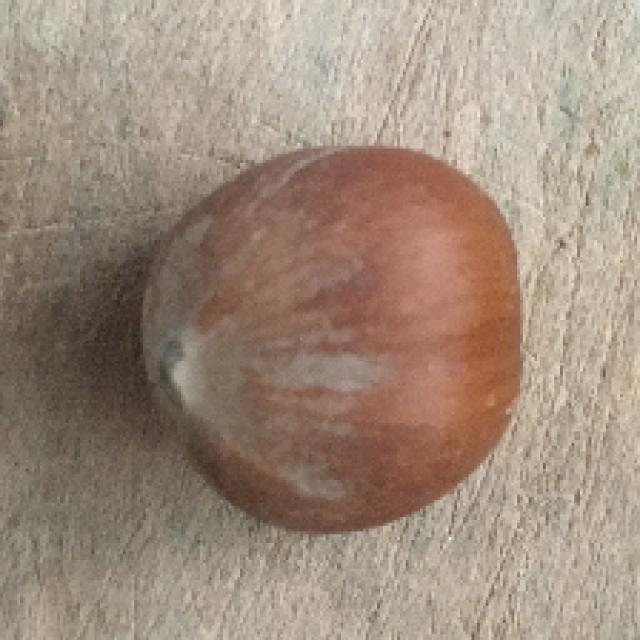qualityHazelnut: (140, 142, 527, 538)
